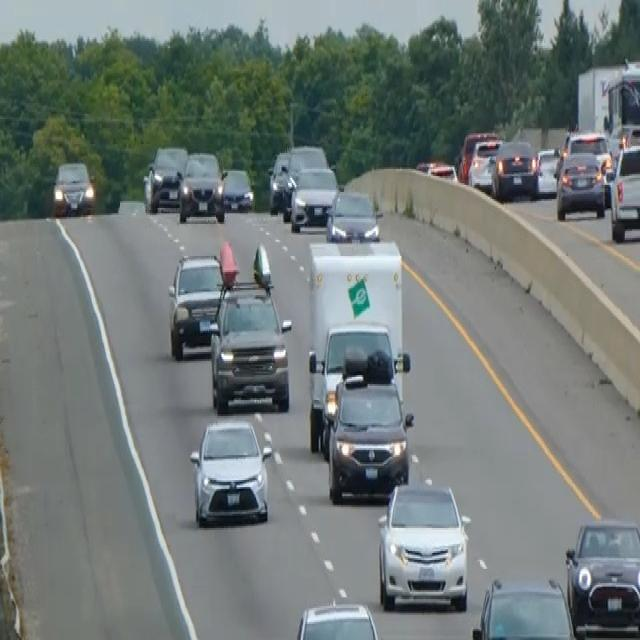car: (326, 349, 413, 503), (564, 516, 639, 638), (188, 416, 271, 526), (166, 249, 229, 359), (471, 574, 577, 638), (555, 150, 606, 220), (281, 142, 327, 217), (178, 150, 225, 222), (289, 164, 339, 231), (294, 599, 379, 637), (608, 140, 639, 242), (325, 186, 380, 242), (142, 144, 187, 212), (491, 137, 538, 199), (559, 128, 613, 178), (52, 158, 94, 217), (467, 137, 502, 192), (221, 166, 254, 212), (267, 150, 291, 212), (532, 146, 560, 197), (416, 157, 457, 183)
jeep: (207, 276, 292, 414)
minivan: (375, 476, 471, 614)
truck: (305, 236, 405, 454), (576, 57, 639, 155)
